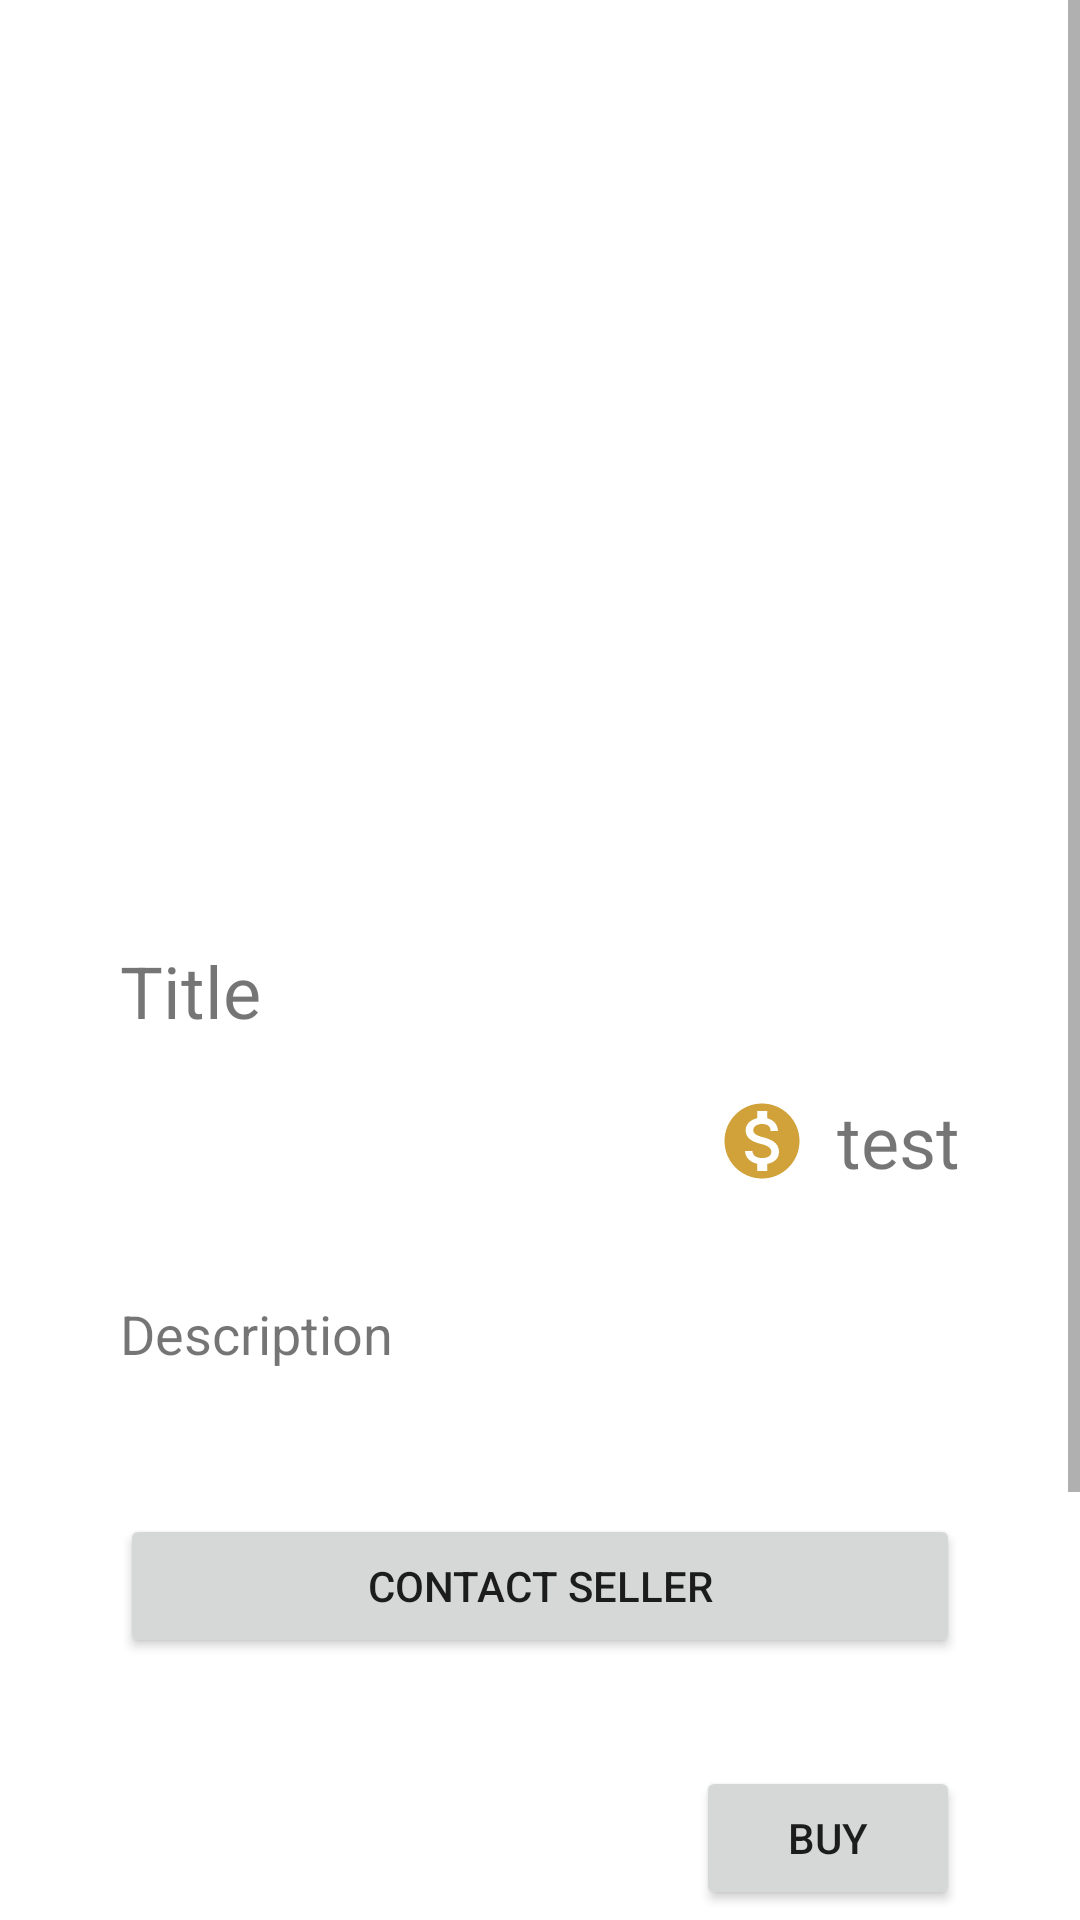

Point at icon controls on the screen. Image size 1080x1920, points as (x,y).
token: (762,1141)
